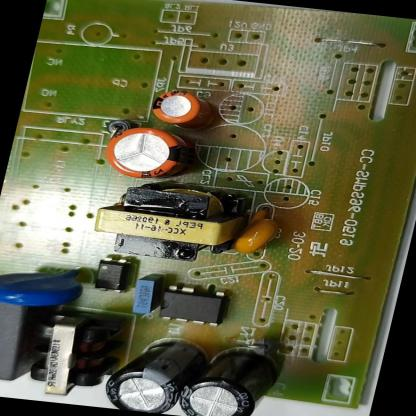Cap1: (88, 120, 207, 184)
Cap2: (142, 82, 223, 134)
Cap3: (100, 326, 201, 414)
Cap4: (170, 340, 295, 416)
MOSFET: (129, 272, 254, 336)
Mov: (0, 254, 105, 326)
Transformer: (51, 170, 279, 272), (15, 303, 138, 404)
